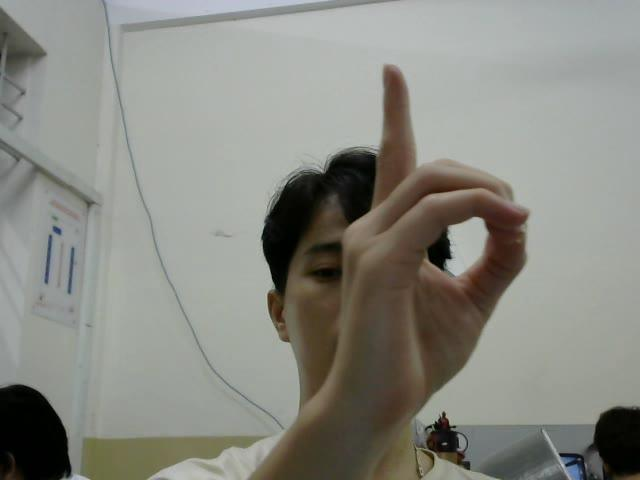D: (339, 61, 529, 413)
